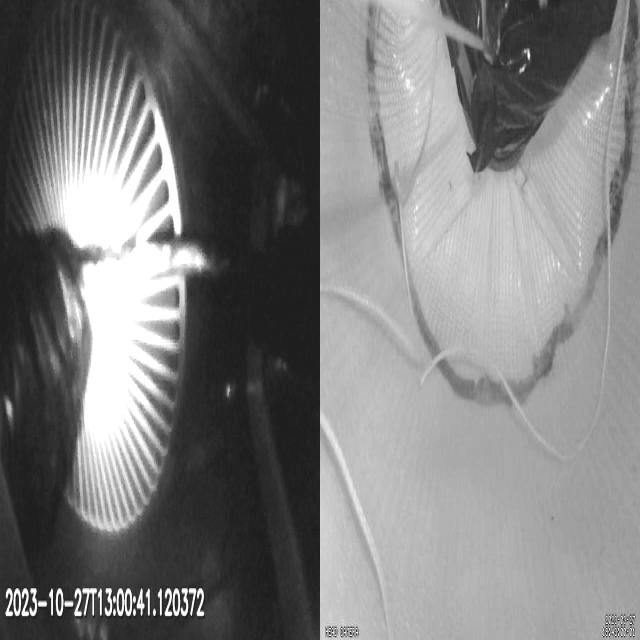red-circle: (364, 1, 640, 408)
